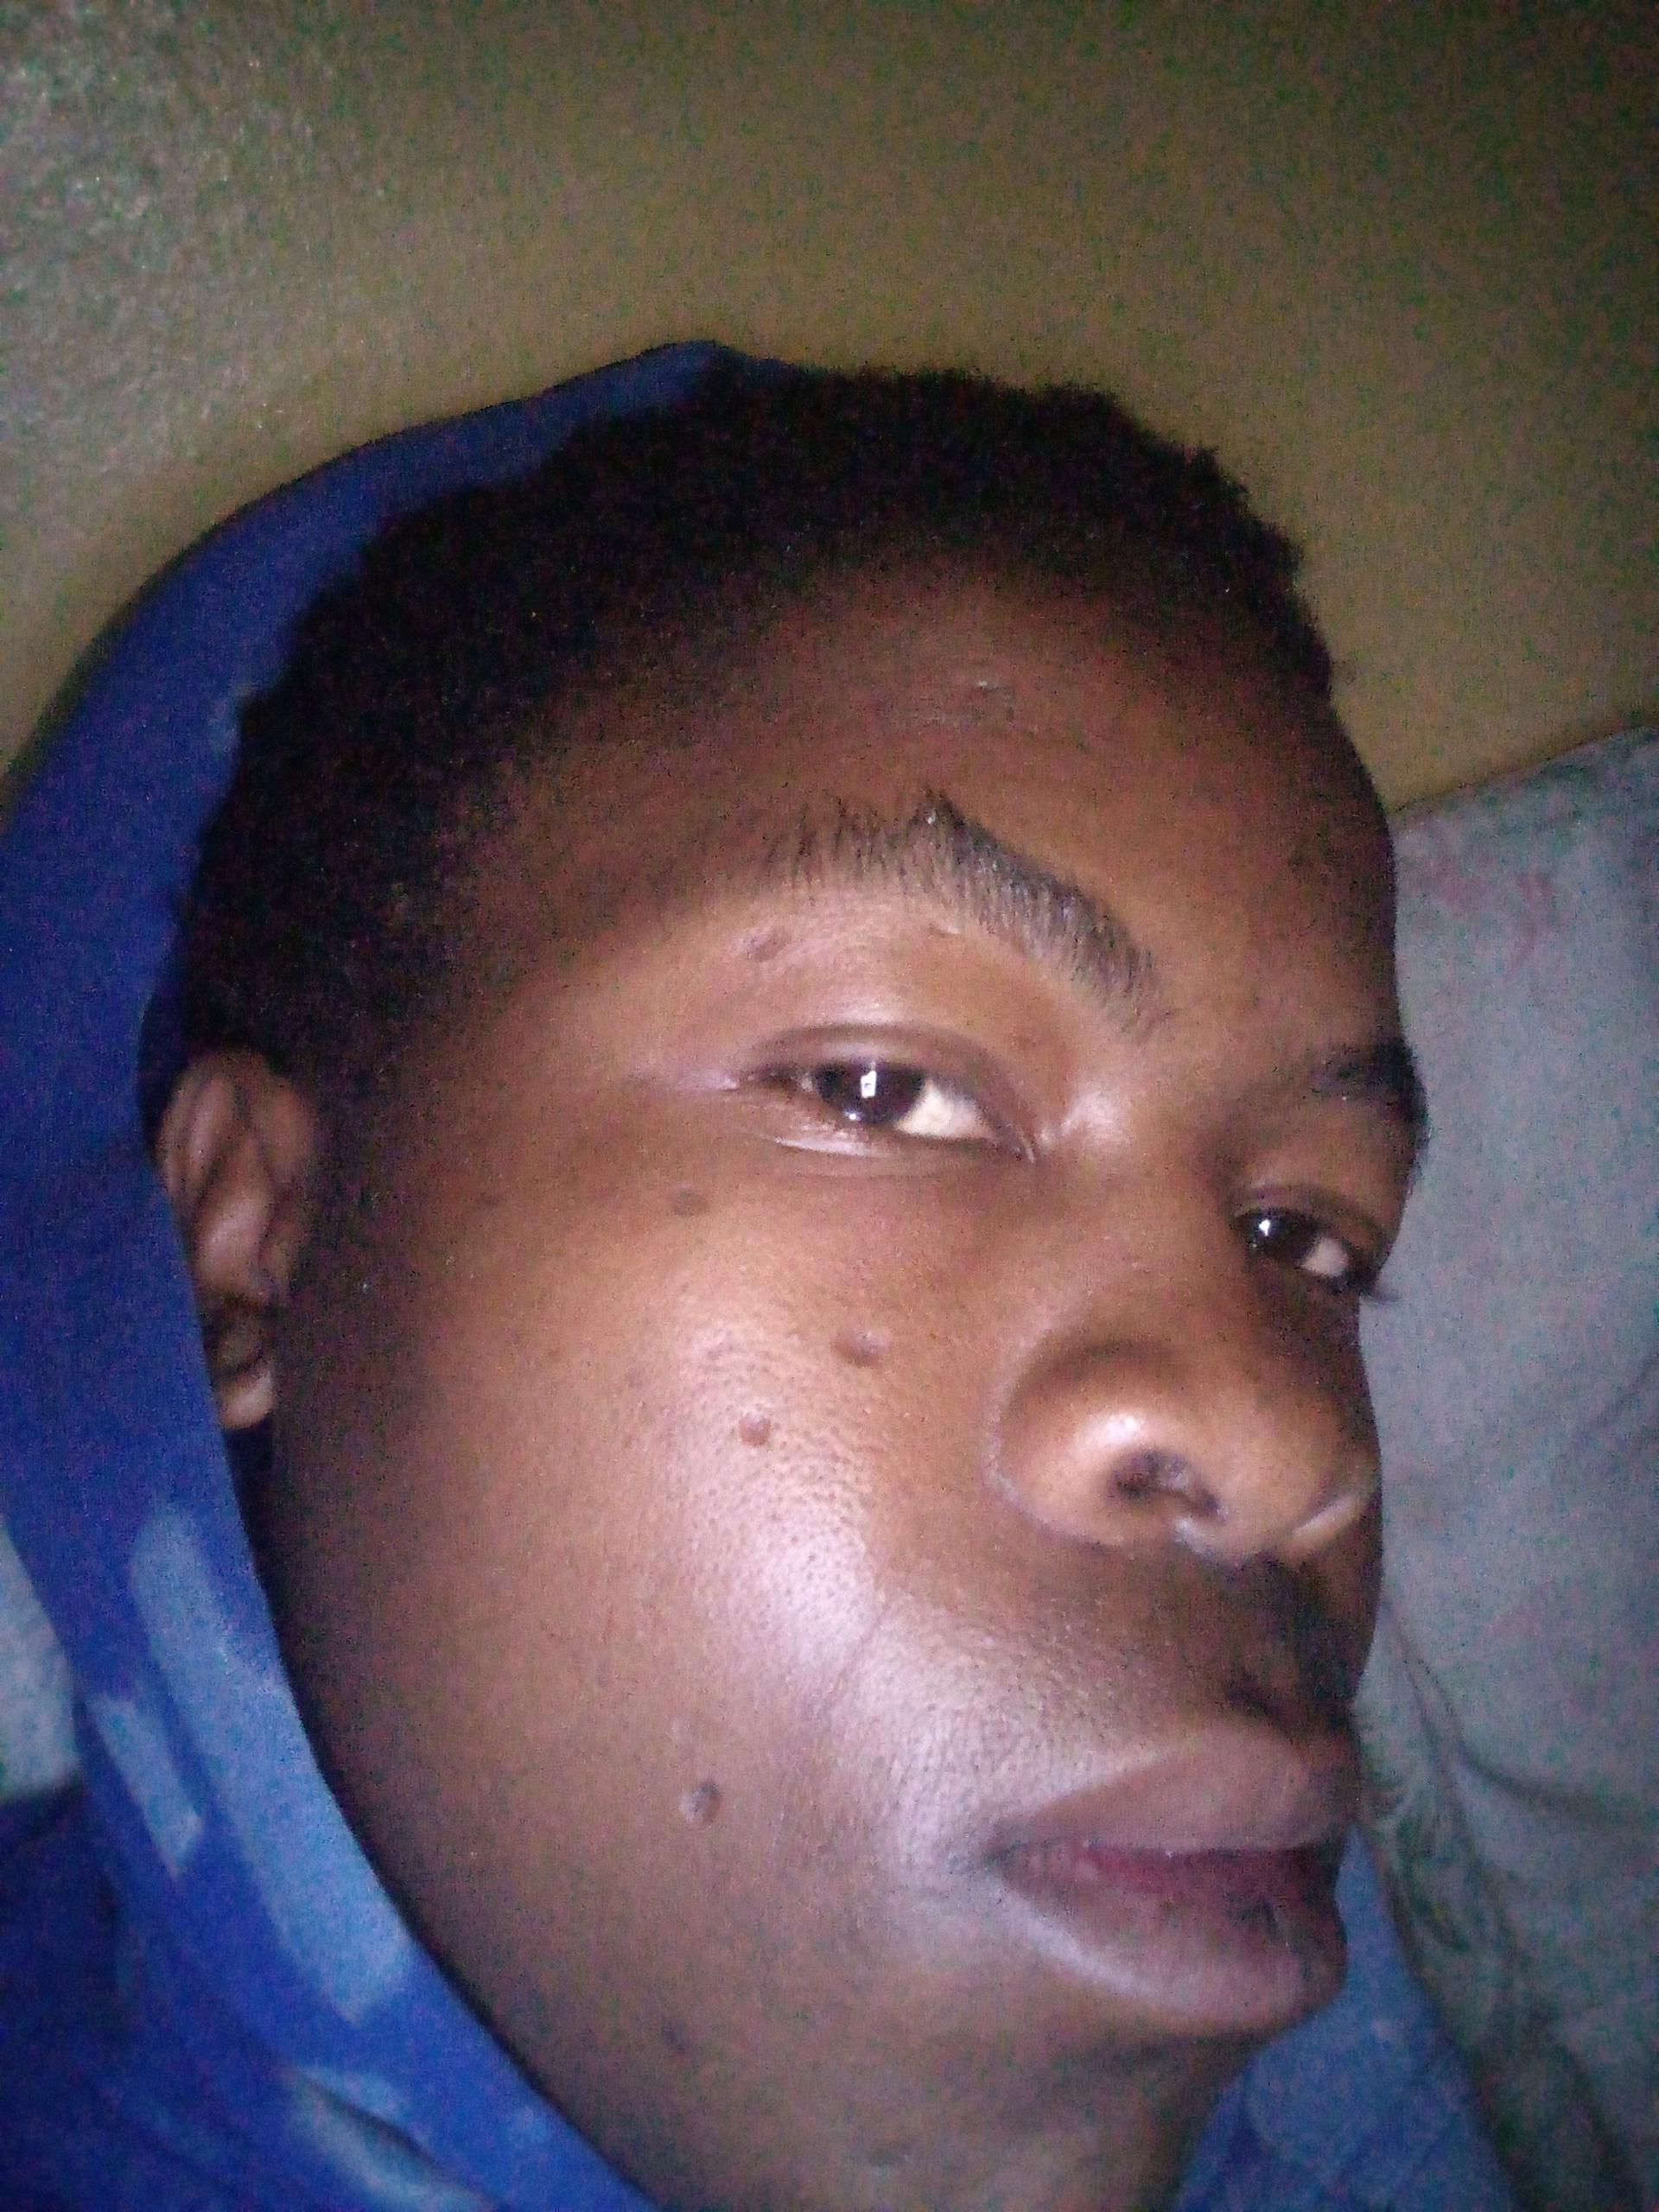Acne: (469, 1177, 544, 1233)
Englarged-Pores: (699, 1364, 960, 1667)
